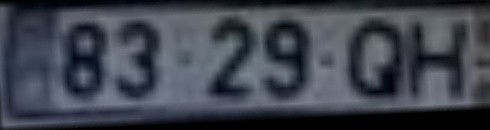2: (206, 13, 262, 102)
3: (111, 18, 168, 107)
8: (58, 20, 114, 105)
9: (260, 16, 314, 106)
H: (405, 21, 472, 105)
Q: (346, 16, 409, 103)
